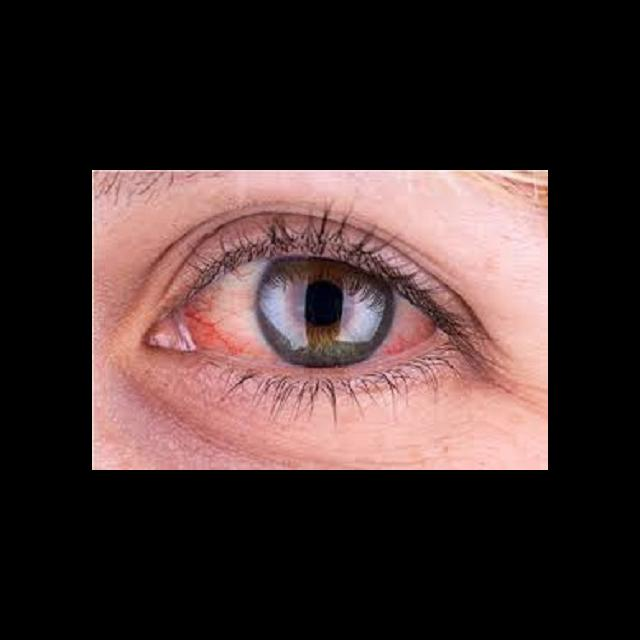eye: (189, 256, 437, 368)
iris: (257, 259, 393, 365)
